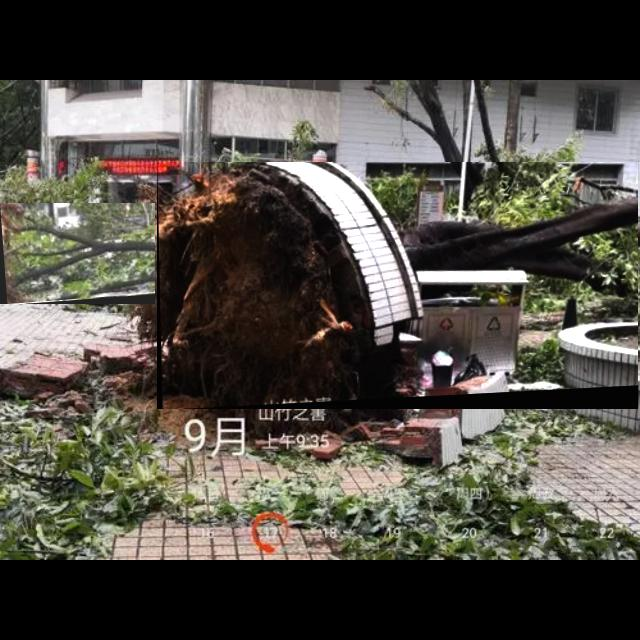Fallen Tree: (157, 162, 639, 410), (0, 203, 156, 305)
